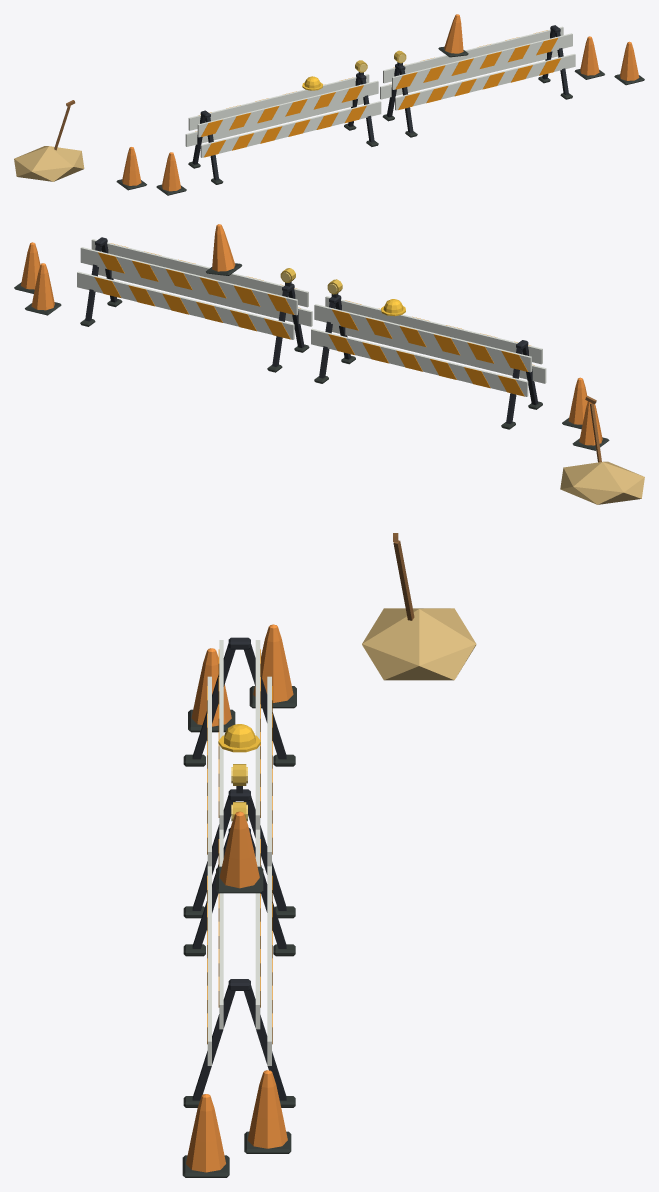
File: sm_env_gate_roadblock.glb
The picture shows the model from 3 angles, top to bottom: view 1: azimuth 30°, elevation 25°; view 2: azimuth 150°, elevation 25°; view 3: azimuth 270°, elevation 25°; orthographic projection. The views are drawn at different scales.
Parts seen in each view (by area): view 1: BarricadeRight, BarricadeLeft, Cones, SandPile; view 2: BarricadeRight, BarricadeLeft, SandPile, Cones; view 3: BarricadeRight, BarricadeLeft, Cones, SandPile.
Part boxes in pixels (x1,y1,x2,y2): BarricadeRight: (380, 14, 575, 137); BarricadeLeft: (185, 60, 381, 184); Cones: (116, 36, 644, 195); SandPile: (14, 100, 84, 181); BarricadeRight: (77, 224, 312, 372); BarricadeLeft: (311, 279, 546, 429); SandPile: (560, 396, 644, 504); Cones: (14, 242, 609, 450); BarricadeRight: (183, 802, 295, 1107); BarricadeLeft: (183, 637, 295, 918); Cones: (182, 624, 296, 1177); SandPile: (362, 533, 476, 680).
Bounding box in the file's own units: 11.73 × 1.95 × 2.62.
